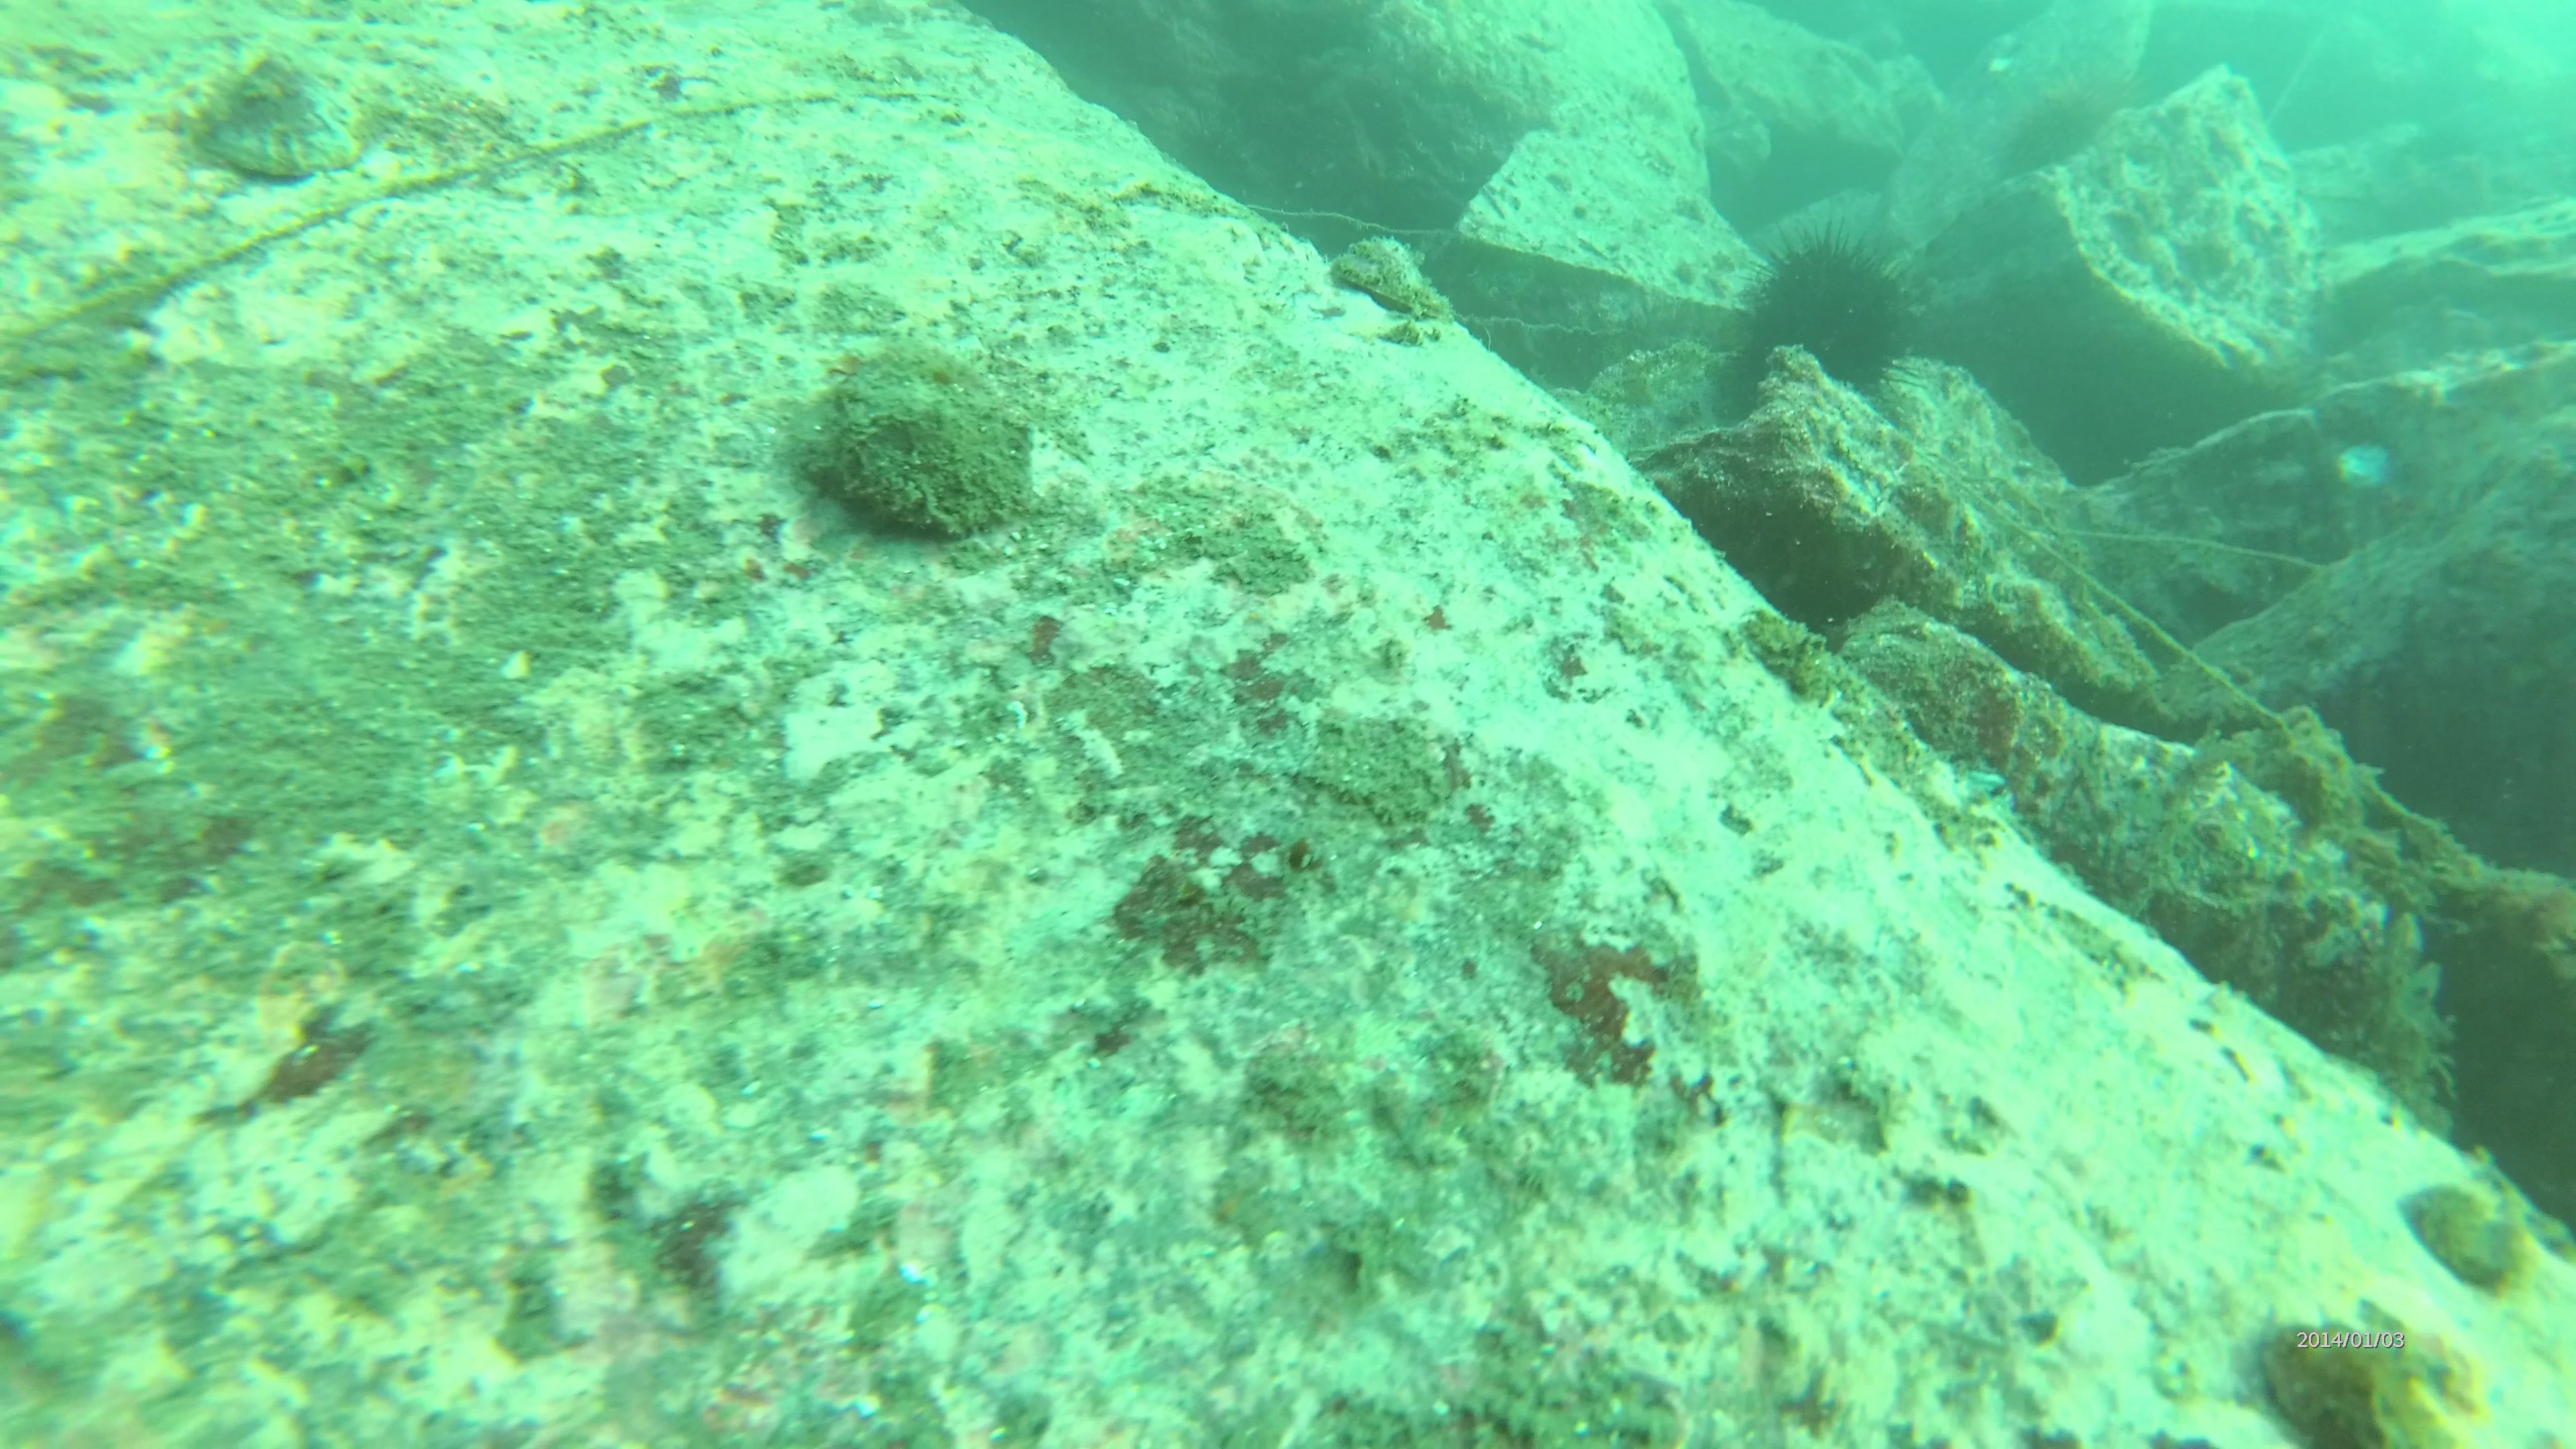echinus: (1741, 237, 1916, 396)
